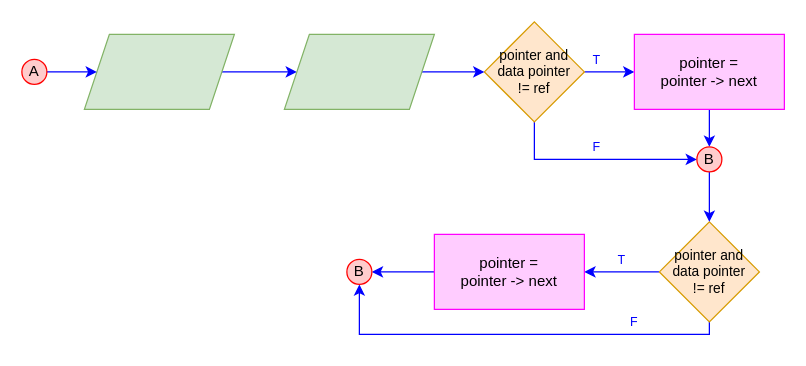
The diagram is 806 pixels wide and 366 high, and some of its shapes have lost their labels. The centre of each missing label's shape, as x and y in pixels:
pointer = input pointer: (358,71)
pointer, int ref, int want: (158,71)
